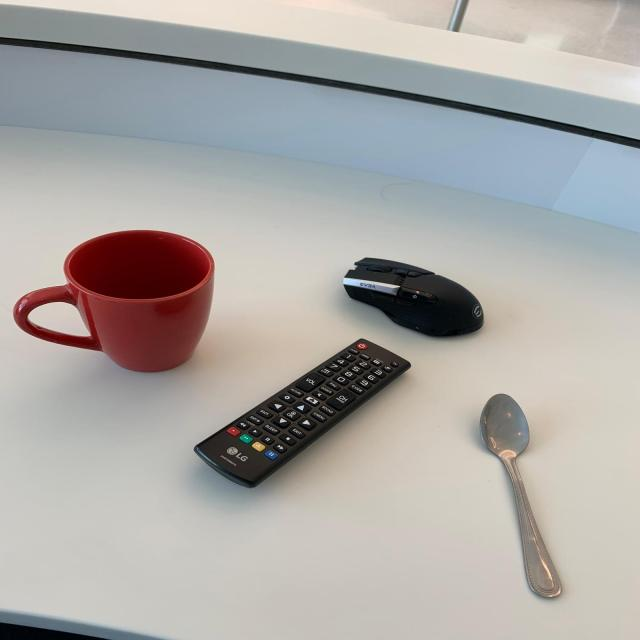Cup: (8, 227, 221, 390)
Mouse: (326, 251, 511, 342)
Spoon: (470, 389, 576, 604)
